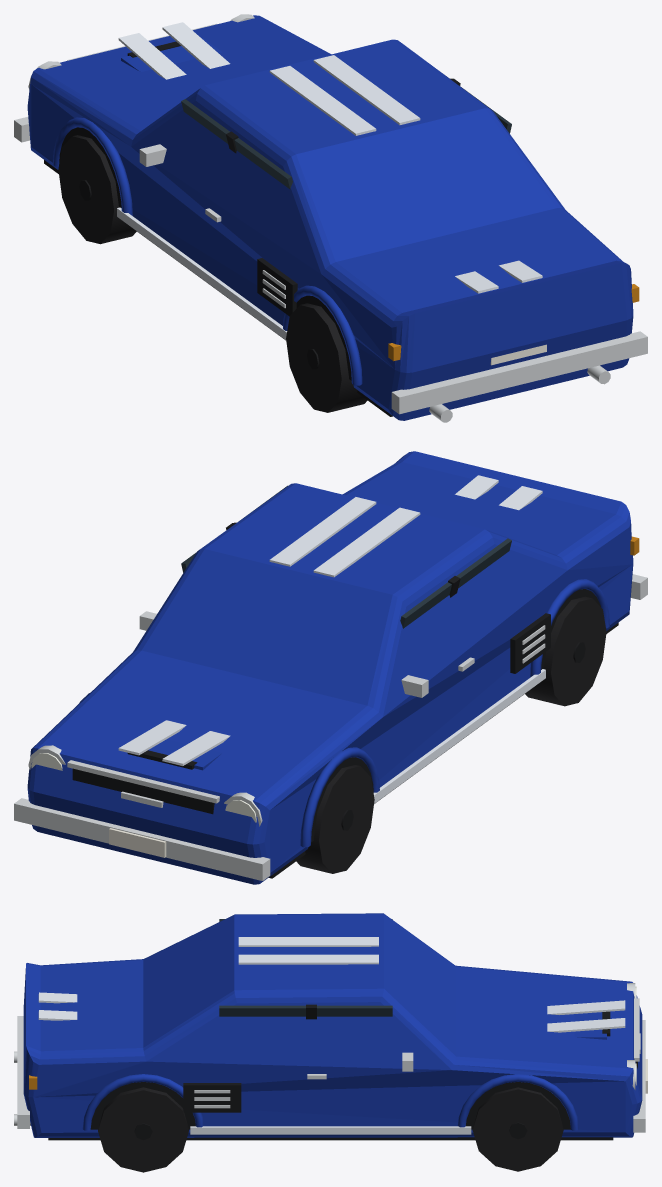
File: coupe.glb
3 views of the same model, one above another, from view 1: azimuth 30°, elevation 25°; view 2: azimuth 150°, elevation 25°; view 3: azimuth 270°, elevation 25° (orthographic). The views are drawn at different scales.
Visible parts, largest first — view 1: body_shell, bumper_r, wheel_RL, wheel_FL, stripe_rocker_-1, stripe_roof_-1, stripe_roof_1, arch_lip_-1_-1.36, arch_lip_-1_1.36, side_win_-1, stripe_hood_-1, stripe_hood_1 (+2 smaller); view 2: body_shell, wheel_RL, wheel_FL, bumper_f, stripe_rocker_-1, stripe_roof_-1, stripe_roof_1, grille, arch_lip_-1_-1.36, side_win_-1, grille_top, cscoop_-1 (+5 smaller); view 3: body_shell, wheel_RR, wheel_FR, stripe_rocker_1, side_win_1, stripe_roof_1, underbody, cscoop_1, arch_lip_1_-1.36, stripe_roof_-1, arch_lip_1_1.36, arch_1_-1.36 (+9 smaller).
Boxes of the visible parts, x1=… form: body_shell: x1=27, y1=15, x2=633, y2=420; bumper_r: x1=391, y1=331, x2=647, y2=414; wheel_RL: x1=286, y1=303, x2=367, y2=412; wheel_FL: x1=58, y1=135, x2=136, y2=244; stripe_rocker_-1: x1=117, y1=207, x2=287, y2=340; stripe_roof_-1: x1=269, y1=66, x2=376, y2=135; stripe_roof_1: x1=313, y1=55, x2=420, y2=125; arch_lip_-1_-1.36: x1=53, y1=117, x2=132, y2=215; arch_lip_-1_1.36: x1=283, y1=285, x2=362, y2=385; side_win_-1: x1=181, y1=99, x2=292, y2=189; stripe_hood_-1: x1=118, y1=33, x2=186, y2=79; stripe_hood_1: x1=162, y1=22, x2=230, y2=68; body_shell: x1=27, y1=451, x2=633, y2=884; wheel_RL: x1=525, y1=596, x2=606, y2=706; wheel_FL: x1=296, y1=765, x2=374, y2=873; bumper_f: x1=14, y1=798, x2=270, y2=880; stripe_rocker_-1: x1=373, y1=669, x2=545, y2=803; stripe_roof_-1: x1=313, y1=507, x2=420, y2=577; stripe_roof_1: x1=269, y1=497, x2=376, y2=566; grille: x1=72, y1=768, x2=214, y2=814; arch_lip_-1_-1.36: x1=300, y1=747, x2=379, y2=847; side_win_-1: x1=400, y1=538, x2=511, y2=628; grille_top: x1=67, y1=760, x2=219, y2=803; cscoop_-1: x1=510, y1=613, x2=550, y2=673; body_shell: x1=23, y1=913, x2=642, y2=1137; wheel_RR: x1=98, y1=1087, x2=188, y2=1172; wheel_FR: x1=472, y1=1087, x2=563, y2=1171; stripe_rocker_1: x1=190, y1=1126, x2=471, y2=1134; side_win_1: x1=219, y1=1005, x2=392, y2=1016; stripe_roof_1: x1=238, y1=954, x2=378, y2=964; underbody: x1=48, y1=1137, x2=613, y2=1140; cscoop_1: x1=183, y1=1083, x2=241, y2=1112; arch_lip_1_-1.36: x1=457, y1=1074, x2=578, y2=1130; stripe_roof_-1: x1=238, y1=937, x2=378, y2=946; arch_lip_1_1.36: x1=82, y1=1074, x2=203, y2=1130; arch_1_-1.36: x1=466, y1=1082, x2=570, y2=1129.
Bounding box in the file's own units: 1.93 × 1.36 × 4.6.
